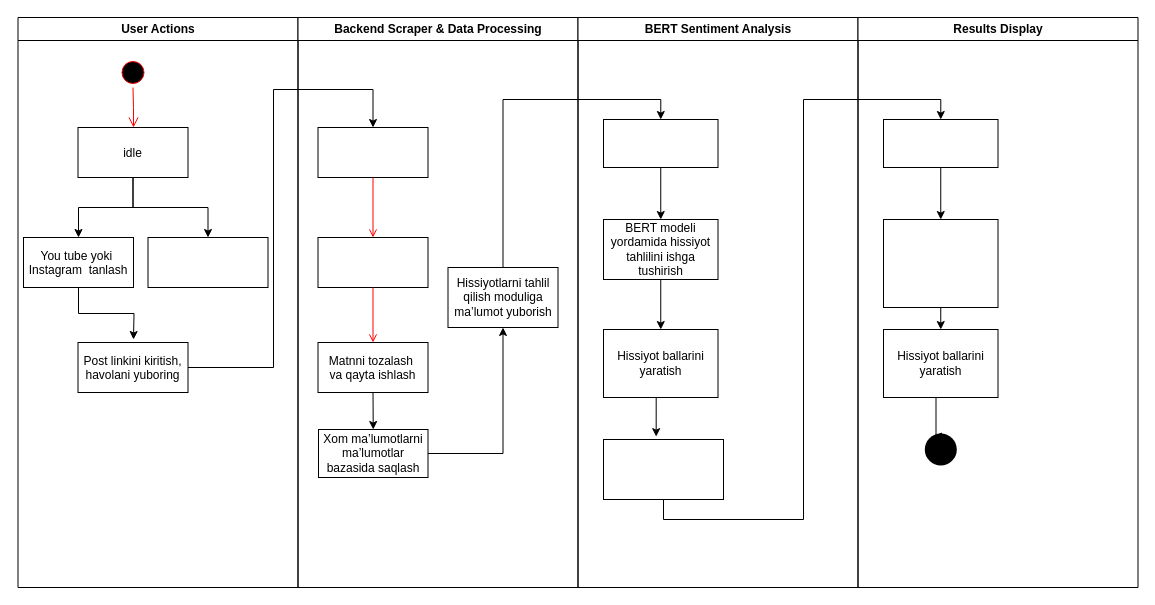
The diagram is 1155 pixels wide and 605 high, and some of its shapes have lost their labels. The shapes that lost their labels are listed below. From the top down, each one's centre as x and y in pixels, then its label:
At pixel 372 152: "Initialize web scraper".
At pixel 660 143: "BERT uchun matnni tokenlash va ishlov berish".
At pixel 940 143: "Ma’lumotlar bazasidan hissiyot natijalarini olish".
At pixel 207 262: "Qo'lda matn kiritish orqali modelni tekshirish".
At pixel 372 262: "Fikrlar/lavhalar /tavsiflarni olish".
At pixel 940 263: "Natijalarni foydalanuvchiga chiqarish (diagrammalar, foizlar, jadvallar)".
At pixel 663 469: "Tahlil qilingan natijalarni ma’lumotlar bazasida saqlash".
